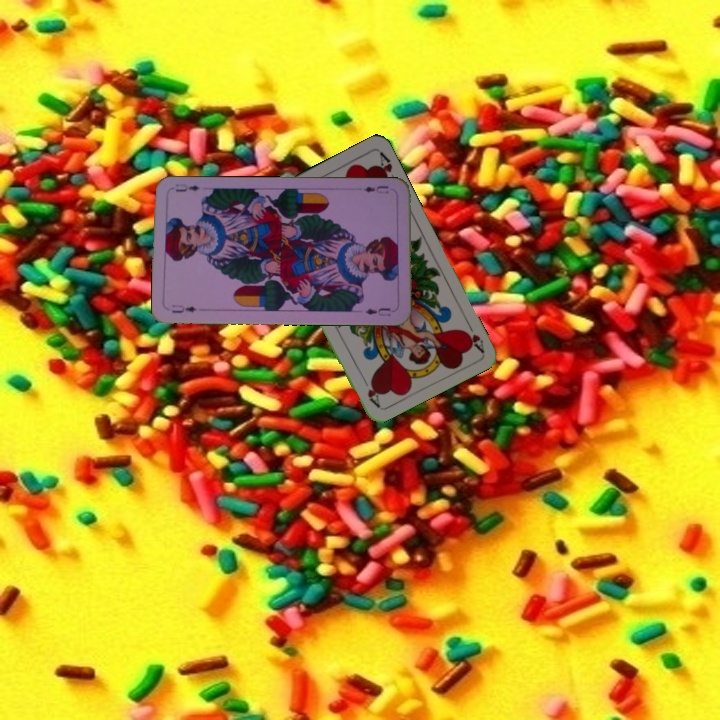EU: (167, 301, 199, 316), (360, 182, 391, 196)
HA: (459, 316, 487, 354)
